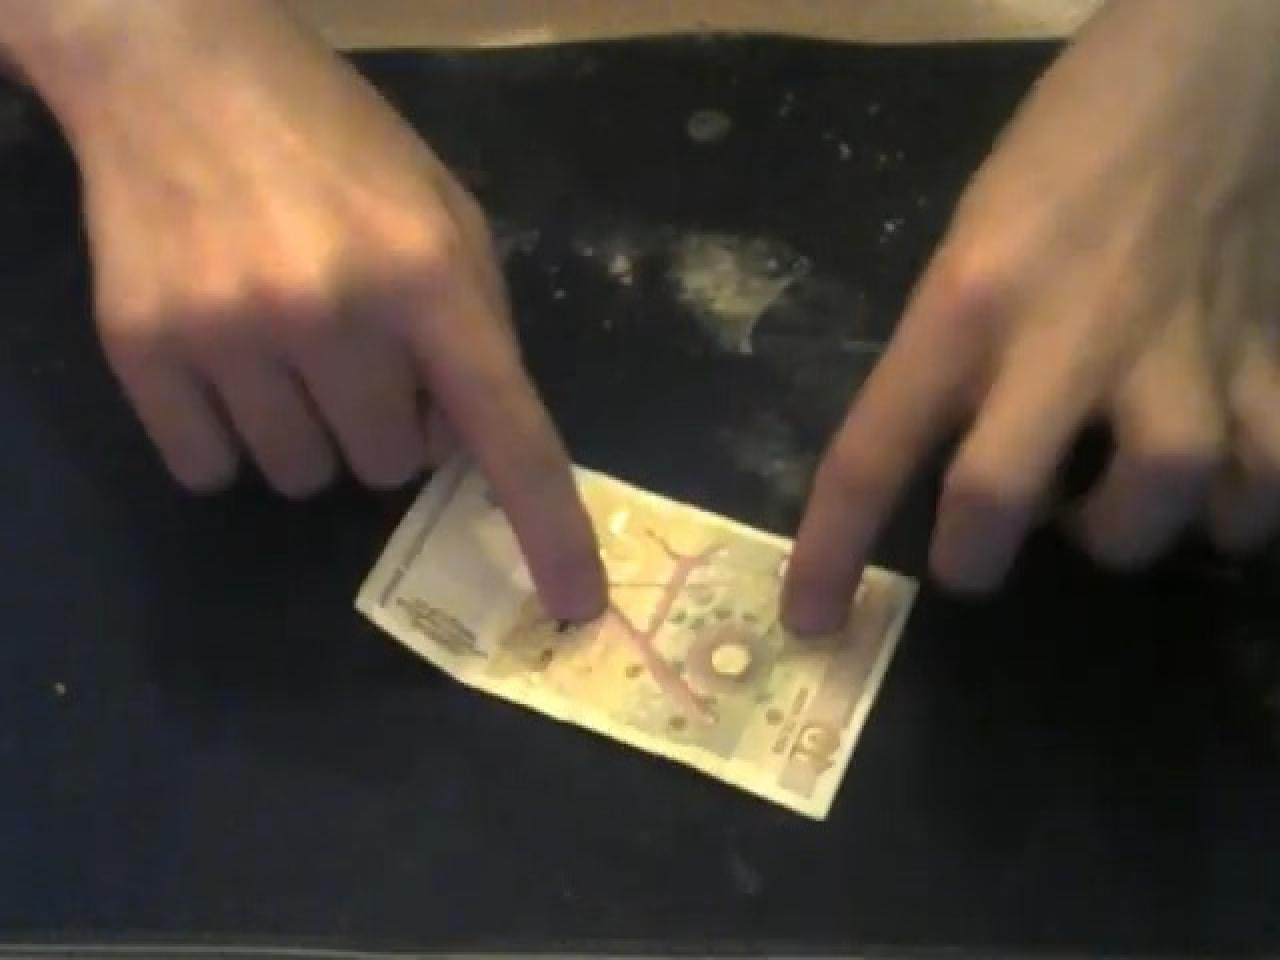10leva: (352, 459, 916, 816)
